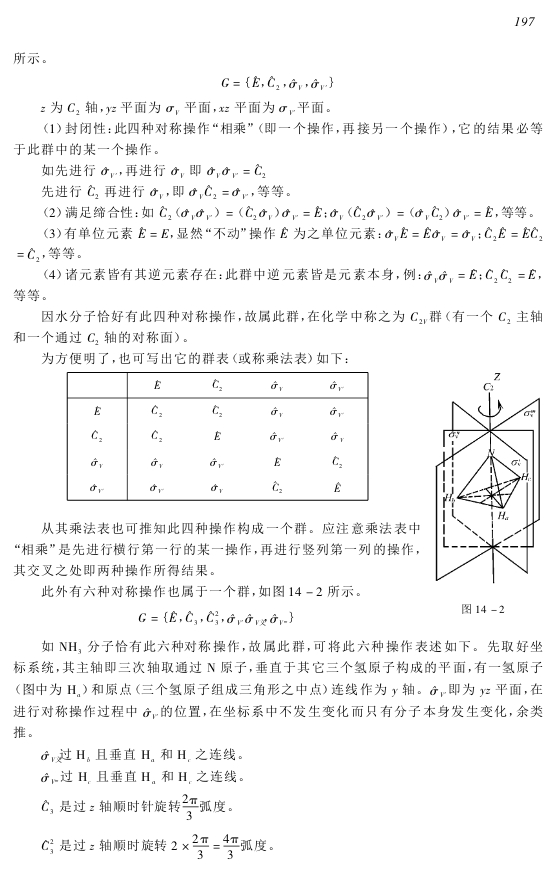table: (67, 372, 368, 500)
